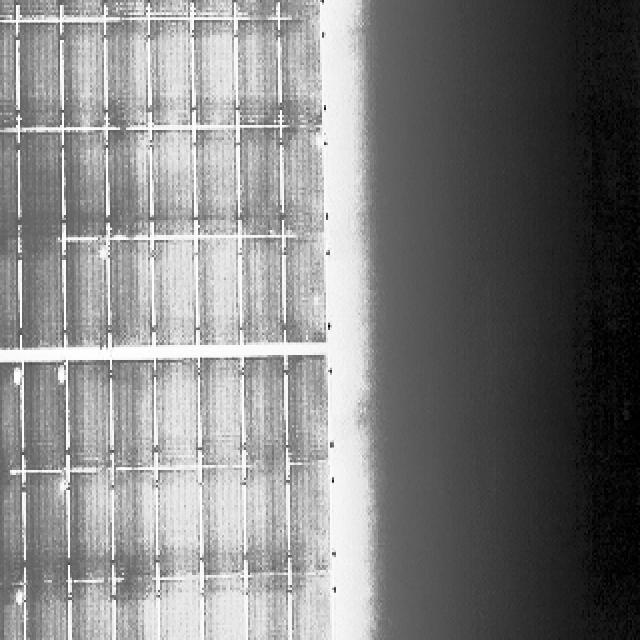Hotspots: (55, 364, 68, 386), (97, 243, 109, 266), (9, 371, 24, 386), (13, 593, 24, 608)
PV-modules: (22, 245, 72, 356), (156, 358, 202, 472), (238, 351, 284, 464), (66, 358, 111, 472), (24, 362, 70, 473), (65, 470, 111, 581), (63, 244, 108, 356), (196, 242, 241, 354), (111, 358, 156, 470), (26, 474, 71, 586), (156, 235, 201, 346), (106, 20, 152, 128), (278, 18, 324, 126), (20, 23, 66, 130), (242, 465, 287, 574), (112, 473, 157, 582), (21, 133, 66, 242), (199, 357, 243, 468), (280, 129, 324, 240), (241, 235, 285, 346), (108, 240, 153, 348), (61, 131, 106, 239), (152, 132, 197, 240), (154, 20, 198, 130), (283, 240, 327, 350), (240, 129, 284, 239), (285, 356, 328, 468), (158, 469, 202, 578), (192, 19, 236, 128), (195, 130, 239, 239), (59, 24, 104, 130), (108, 127, 152, 235), (286, 466, 329, 576), (200, 470, 243, 579), (237, 21, 280, 126), (285, 576, 331, 640), (199, 576, 244, 640), (114, 580, 162, 640), (248, 575, 292, 640), (157, 579, 203, 640), (0, 363, 24, 475), (23, 584, 69, 640), (68, 583, 112, 640), (0, 475, 22, 587), (0, 132, 20, 242), (0, 240, 20, 348), (0, 20, 18, 130), (0, 587, 24, 640), (18, 0, 62, 22), (234, 0, 280, 20), (104, 0, 150, 20), (58, 0, 102, 20), (276, 0, 320, 20), (150, 0, 196, 18), (188, 0, 232, 18), (0, 0, 12, 18)
